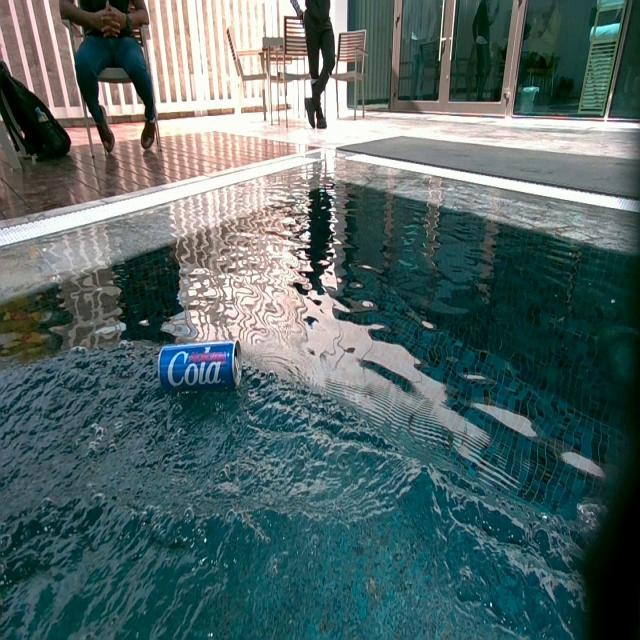Cans: (159, 340, 242, 392)
